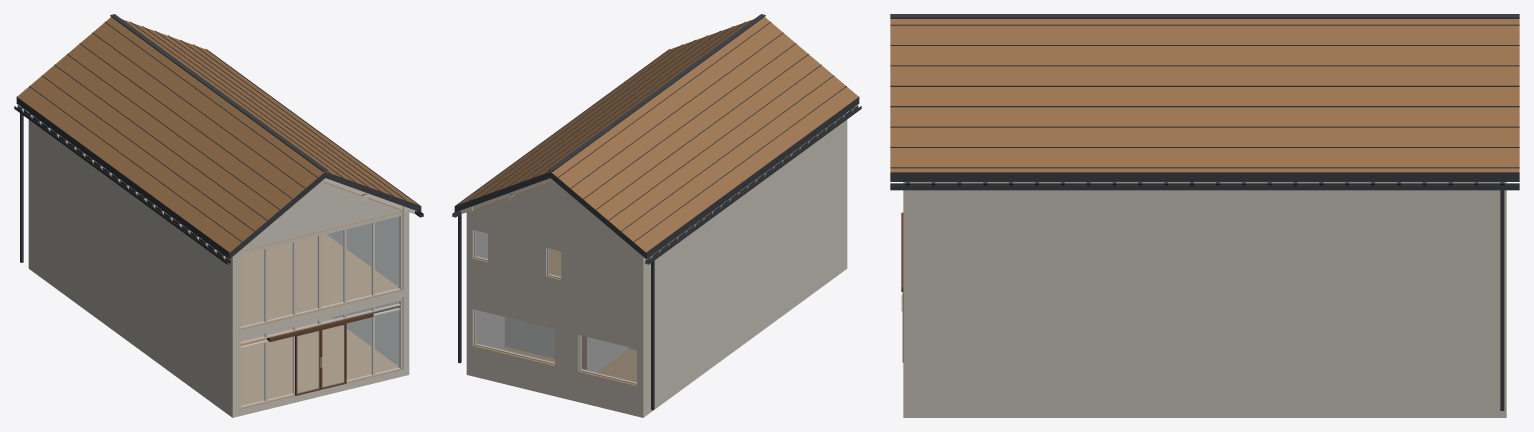
3 views of the same model, side by side, from view 1: azimuth 30°, elevation 25°; view 2: azimuth 150°, elevation 25°; view 3: azimuth 270°, elevation 25° (orthographic). The views are drawn at different scales.
Visible parts, largest first — view 1: building_0, building_7, building_2, building_1, building_6, building_3, building_5; view 2: building_0, building_7, building_6, building_2, building_1, building_5; view 3: building_0, building_7, building_6.
Part boxes in pixels (<box>): building_0: <box>28,113,409,417</box>; building_7: <box>17,17,420,252</box>; building_2: <box>240,216,399,406</box>; building_1: <box>239,181,408,409</box>; building_6: <box>14,14,423,264</box>; building_3: <box>267,312,373,395</box>; building_5: <box>22,108,416,259</box>; building_0: <box>466,113,847,417</box>; building_7: <box>455,17,858,252</box>; building_6: <box>452,14,861,410</box>; building_2: <box>475,230,636,382</box>; building_1: <box>467,181,636,385</box>; building_5: <box>459,108,853,259</box>; building_0: <box>901,182,1506,417</box>; building_7: <box>890,19,1519,172</box>; building_6: <box>890,14,1519,410</box>.
Size of the model in its own units: 7.78 by 8.67 by 14.6.
